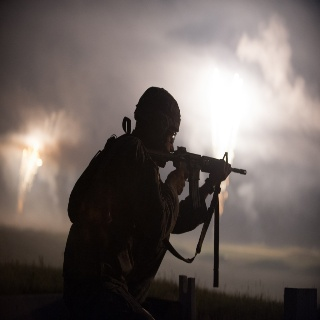rifle: (145, 144, 250, 207)
